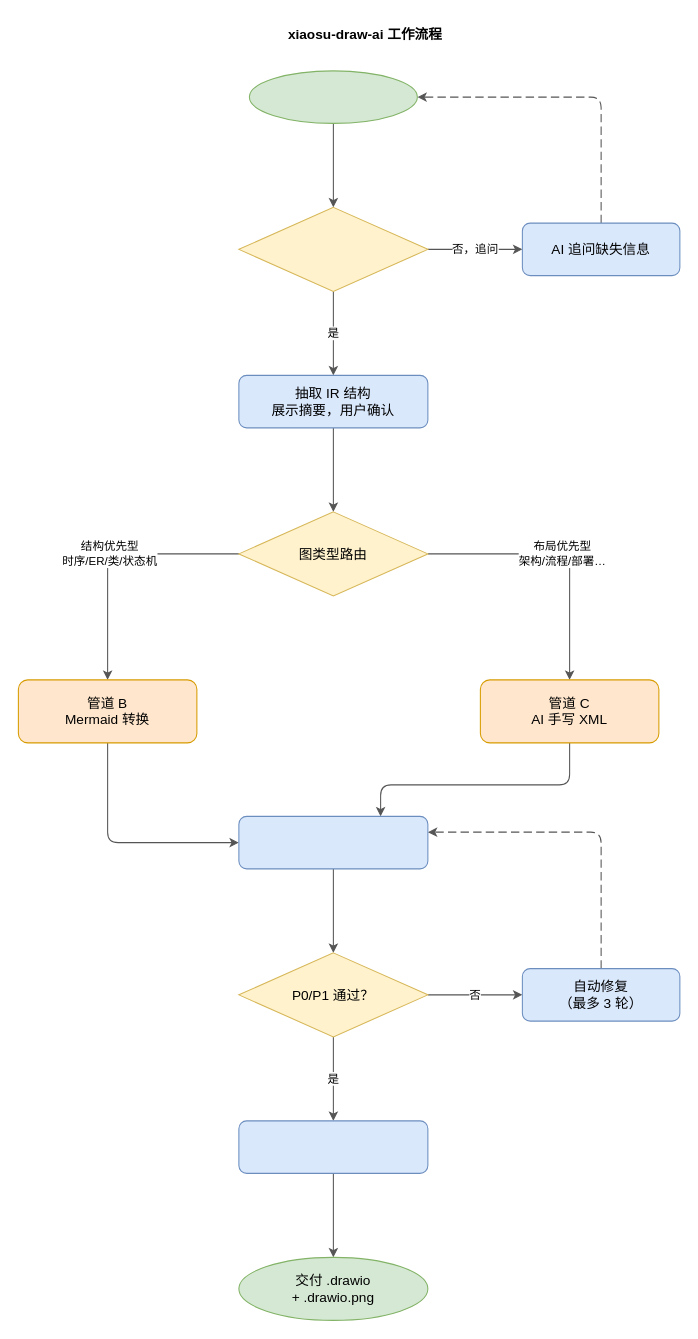
Some shapes in this 698 by 1339 pixel diagram are drawn without their labels. The centre of each missing label's shape, as x and y in pixels:
信息充分？: the point at 333,248
导出预览 PNG AI 视觉自检（P3）: the point at 333,1146
用户自然语言描述: the point at 332,96
质量门禁 validate.py + audit.js: the point at 333,842
